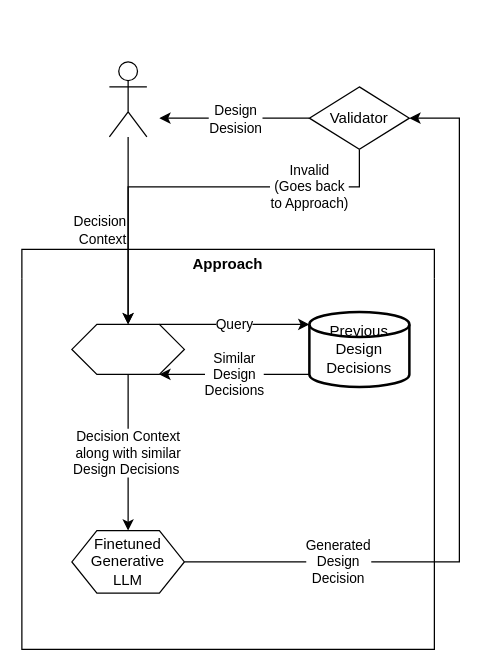
Some shapes in this 491 by 671 pixel diagram are drawn without their labels. Here are the shapes that lost their labels. From the top down, the centre of each, then its label:
At (x=127, y=99): "Architect with a Decision Problem".
At (x=127, y=348): "Prompt Processor".
